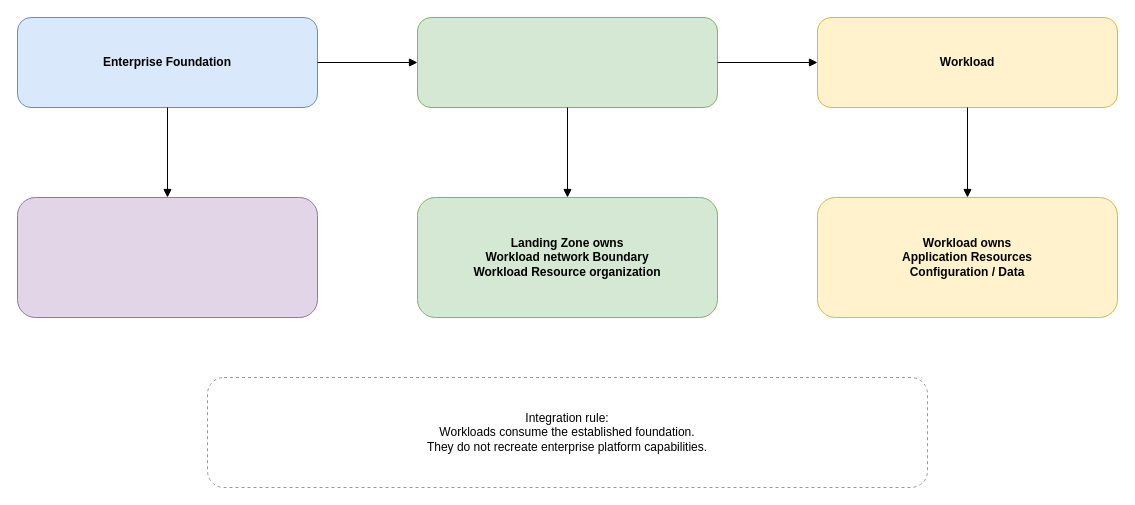
This 1135x505 diagram has some shape labels left out. Here are the shapes that lost their labels. From the top down, the centre of each, then its label:
the point at 567,62: Approved Landing Zone
the point at 167,257: Foundation owns Governance / Platform Services
